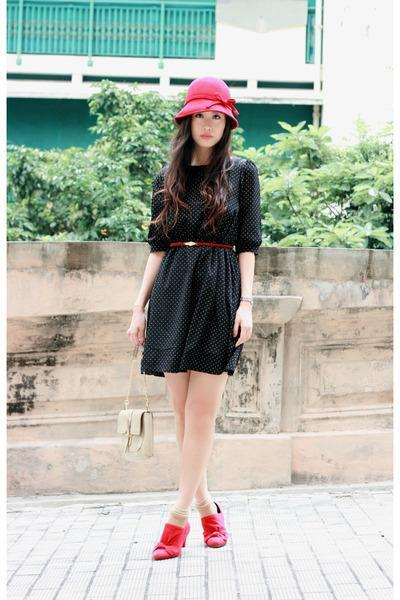dress: (141, 156, 275, 376)
hat: (180, 80, 241, 119)
shoe: (156, 516, 227, 560)
